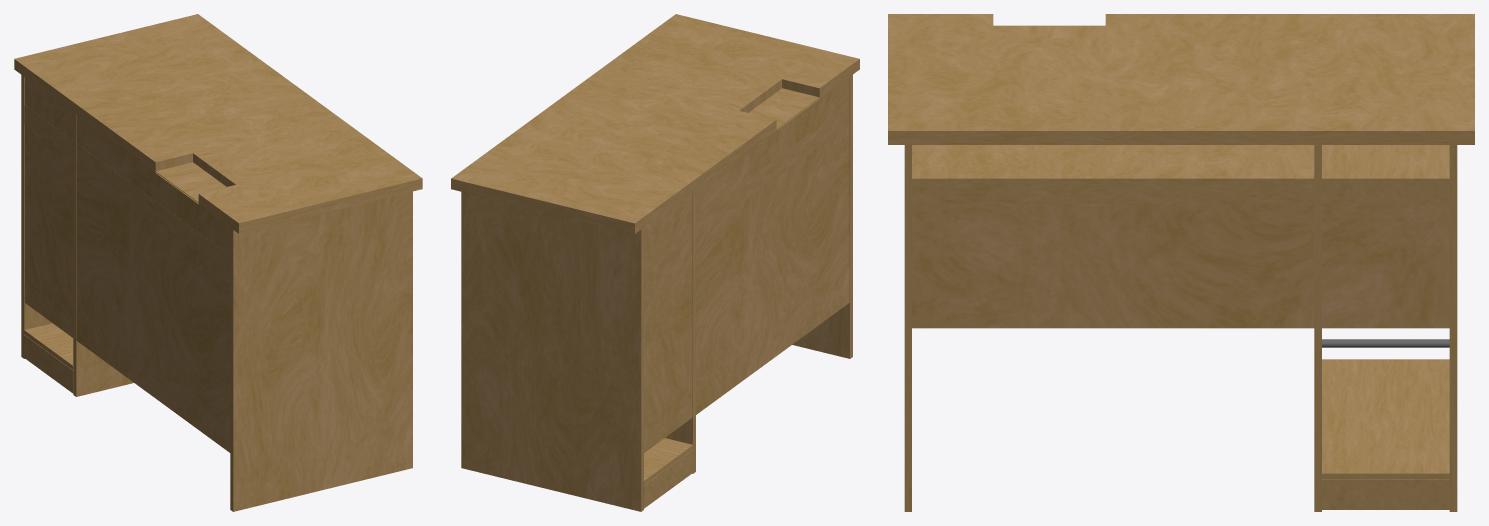
Rendered from Computer Desk.fbx.
The picture shows the model from 3 angles, left to right: view 1: azimuth 30°, elevation 25°; view 2: azimuth 150°, elevation 25°; view 3: azimuth 270°, elevation 25°; orthographic projection. The views are drawn at different scales.
Visible parts, largest first — view 1: Cube, Cube.008, Cube.003, Cube.007, Cube.001, Cube.002, Cube.005, Cube.004, Cube.006; view 2: Cube.002, Cube.008, Cube.003, Cube.007, Cube, Cube.001, Cube.005, Cube.004, Cube.006; view 3: Cube.008, Cube.003, Cube.007, Cube.005, Cube.006, Cube.004, Cube.002, Cube, Cube.001, Cylinder.
Part boxes in pixels (left/top/right/bottom): Cube: left=230, top=191, right=412, bottom=511; Cube.008: left=14, top=14, right=422, bottom=233; Cube.003: left=25, top=77, right=230, bottom=452; Cube.007: left=76, top=143, right=230, bottom=274; Cube.001: left=73, top=113, right=133, bottom=396; Cube.002: left=21, top=75, right=52, bottom=358; Cube.005: left=23, top=323, right=73, bottom=370; Cube.004: left=23, top=334, right=73, bottom=393; Cube.006: left=24, top=105, right=73, bottom=159; Cube.002: left=461, top=192, right=643, bottom=511; Cube.008: left=451, top=14, right=859, bottom=233; Cube.003: left=644, top=77, right=849, bottom=452; Cube.007: left=696, top=105, right=849, bottom=236; Cube: left=792, top=75, right=852, bottom=358; Cube.001: left=665, top=190, right=695, bottom=473; Cube.005: left=643, top=438, right=693, bottom=485; Cube.004: left=643, top=449, right=693, bottom=508; Cube.006: left=644, top=220, right=692, bottom=274; Cube.008: left=888, top=14, right=1474, bottom=144; Cube.003: left=912, top=203, right=1449, bottom=328; Cube.007: left=912, top=145, right=1314, bottom=203; Cube.005: left=1322, top=359, right=1449, bottom=479; Cube.006: left=1322, top=145, right=1449, bottom=203; Cube.004: left=1322, top=479, right=1449, bottom=509; Cube.002: left=1449, top=145, right=1457, bottom=511; Cube: left=904, top=145, right=911, bottom=511; Cube.001: left=1314, top=145, right=1321, bottom=511; Cylinder: left=1322, top=339, right=1449, bottom=347.
Size of the model in its own units: 239 by 364 by 505.
10 materials, 9 textured.
